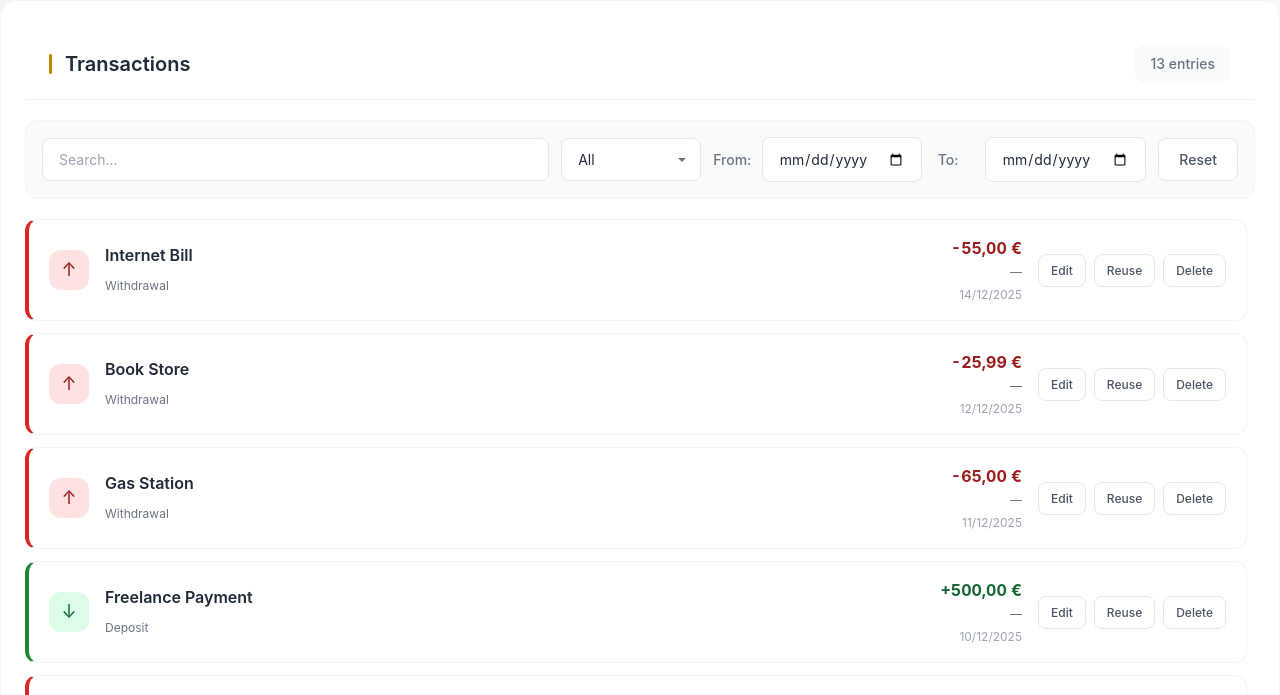
Test: TransactionList › reset filter › should reset all filters when reset button clicked
The image size is (1280, 695).
Type "test" into the field with placeholder "Search...".
click(296, 160); type("test")  # box [42,138,549,181]
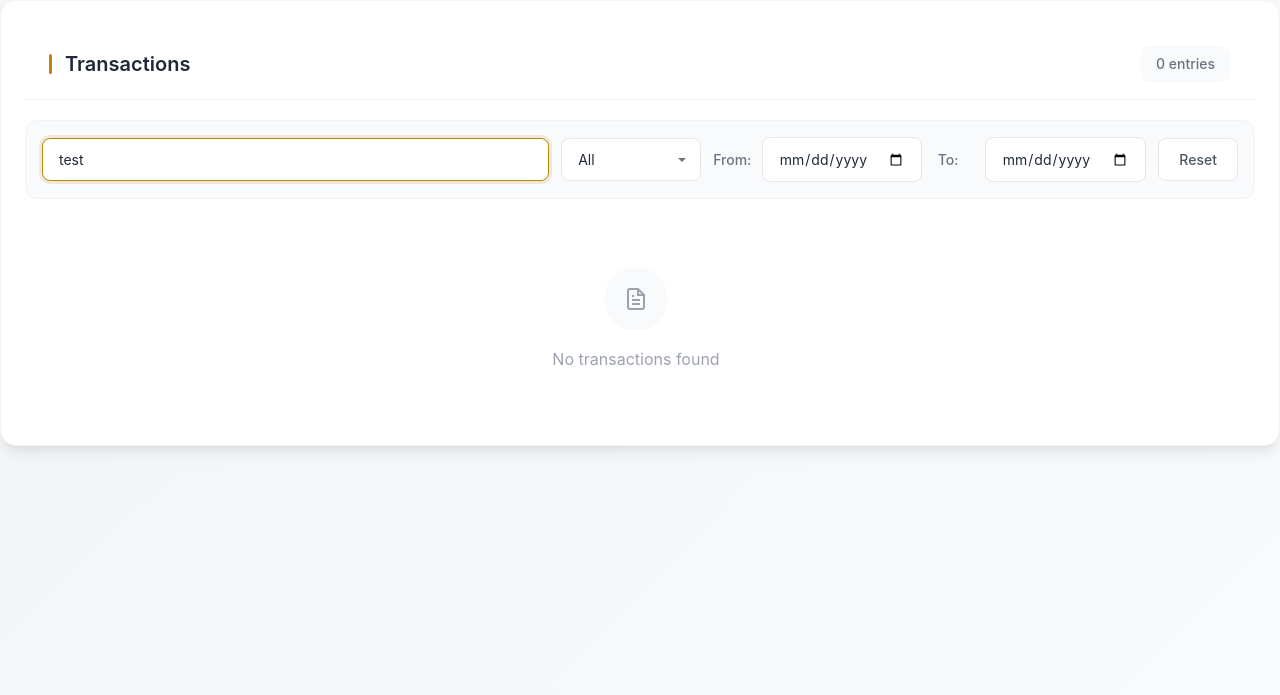
Select "Deposits" in the dropdown at [631, 160], box [561,138,701,181]
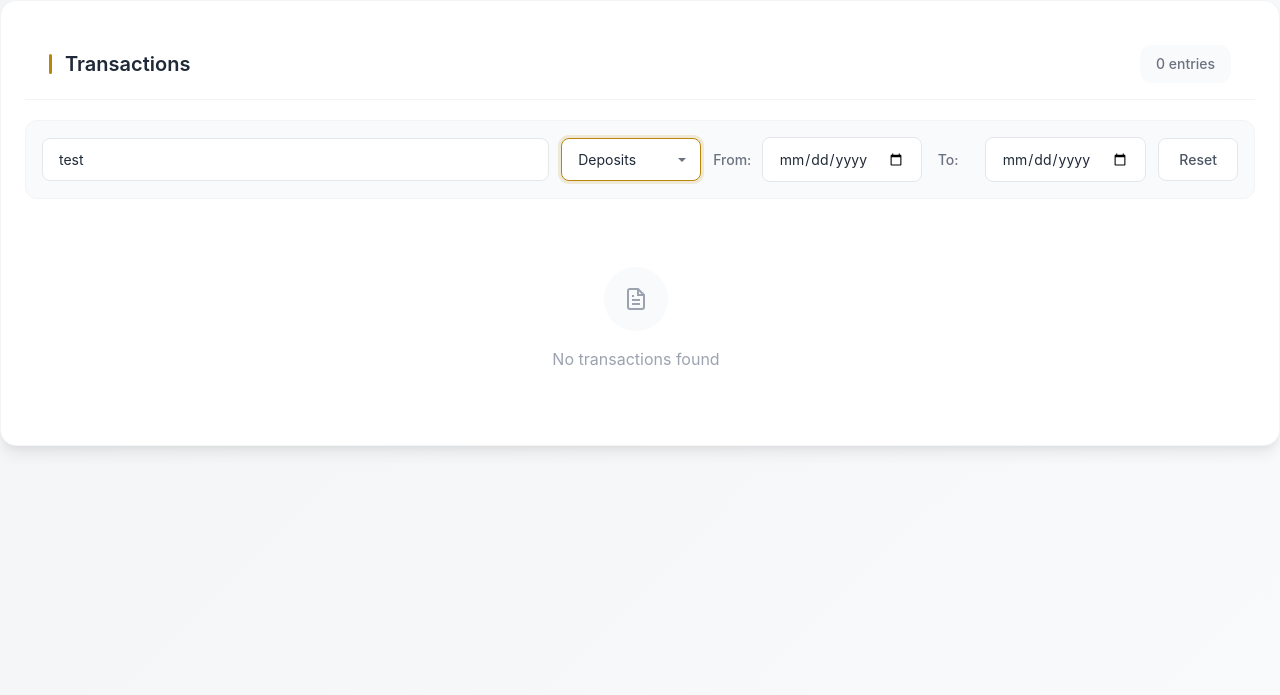
Click the button "Reset".
click(1198, 160)  # box [1158,138,1238,181]
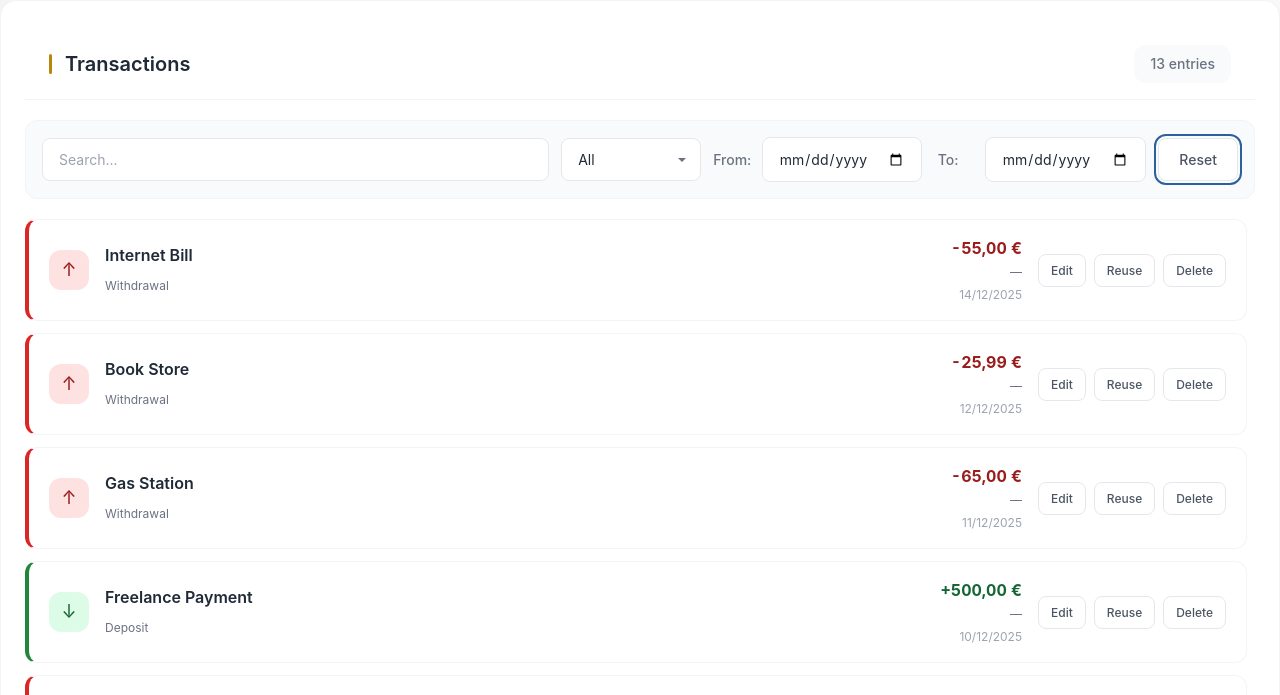
Now the field with placeholder "Search..." is empty, box [42,138,549,181]
